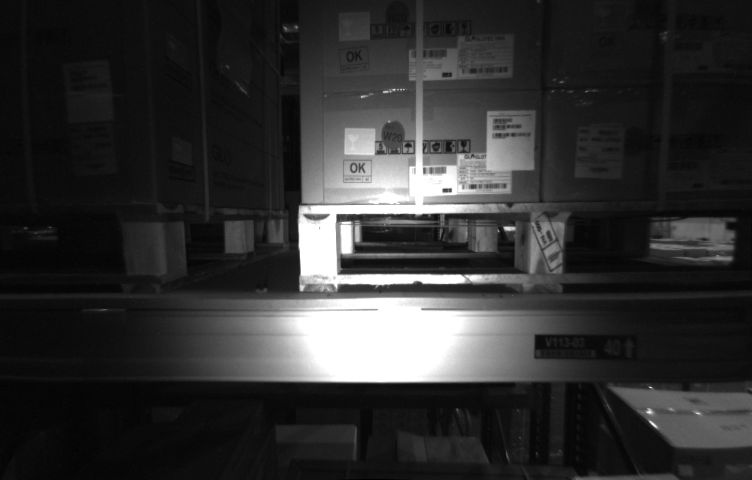True Barcode: (575, 123, 624, 178), (72, 124, 113, 175)
